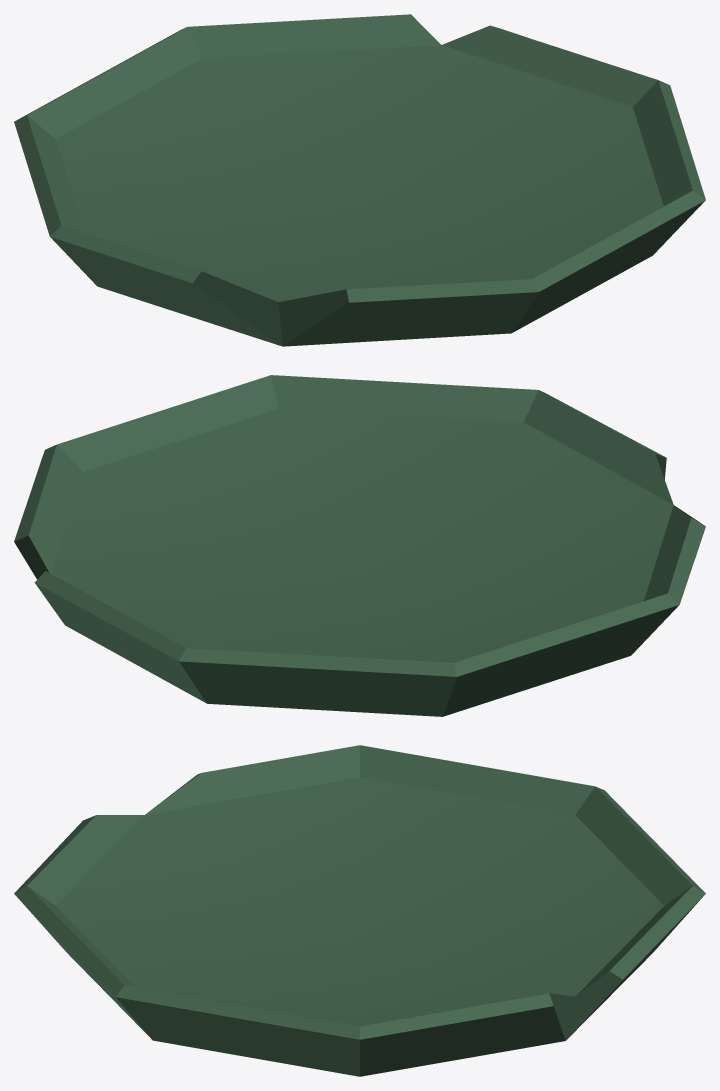
File: LilyA.fbx
3 views of the same model, one above another, from view 1: azimuth 30°, elevation 25°; view 2: azimuth 150°, elevation 25°; view 3: azimuth 270°, elevation 25° (orthographic). The views are drawn at different scales.
Visible parts, largest first — view 1: LilyA; view 2: LilyA; view 3: LilyA.
Boxes of the visible parts, left/top/right/bottom form: LilyA: left=14, top=14, right=705, bottom=346; LilyA: left=14, top=375, right=705, bottom=716; LilyA: left=14, top=745, right=705, bottom=1076.
Size of the model in its own units: 69.05 by 7.61 by 69.05.
